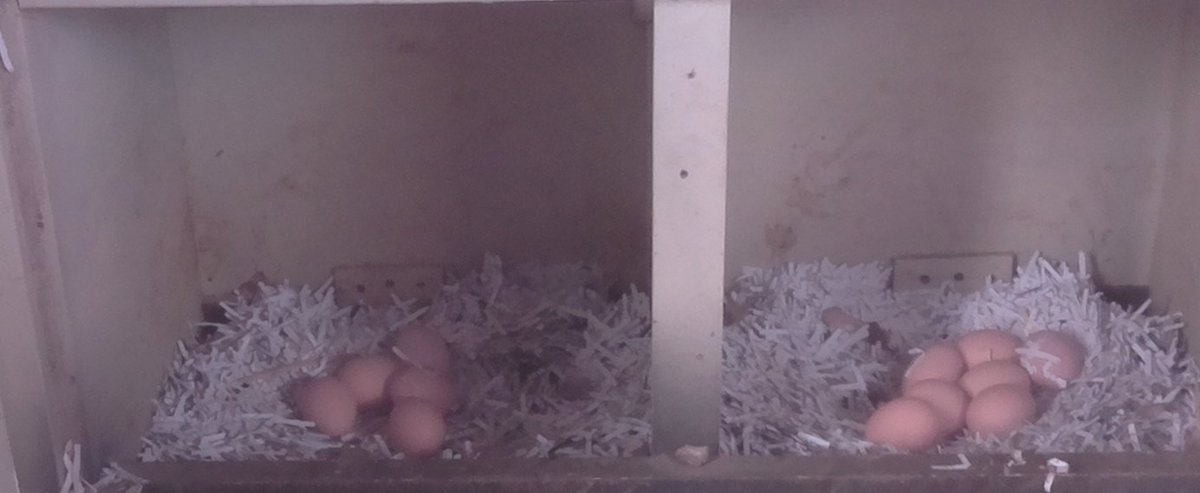egg: (289, 372, 361, 446), (964, 378, 1038, 449), (860, 391, 944, 453), (899, 377, 974, 441), (1018, 325, 1090, 390), (330, 350, 398, 417), (384, 392, 452, 457), (385, 321, 457, 378), (385, 363, 461, 414), (902, 336, 966, 396), (957, 359, 1035, 399), (955, 328, 1024, 369)
